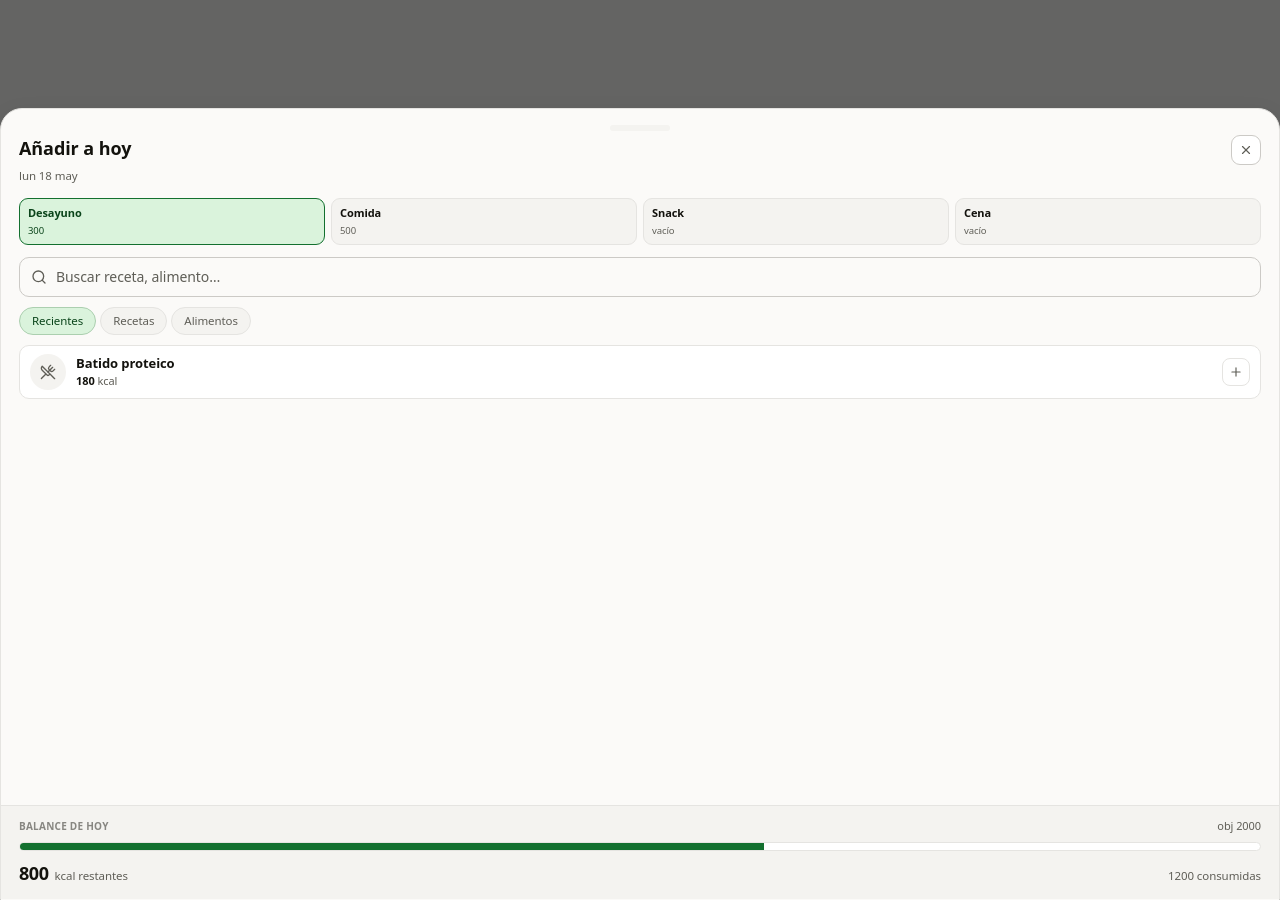
Scenario: AddToDaySheet › defaults to the Recientes tab (quick-add source); switching to Recetas swaps the list source
Expected: the text "Batido proteico" is shown, [76,354,175,372]
Expected: the text "Ensalada César" is not shown
Press the mouse on the tab "Recetas" at (134, 321), box [100,307,167,335]
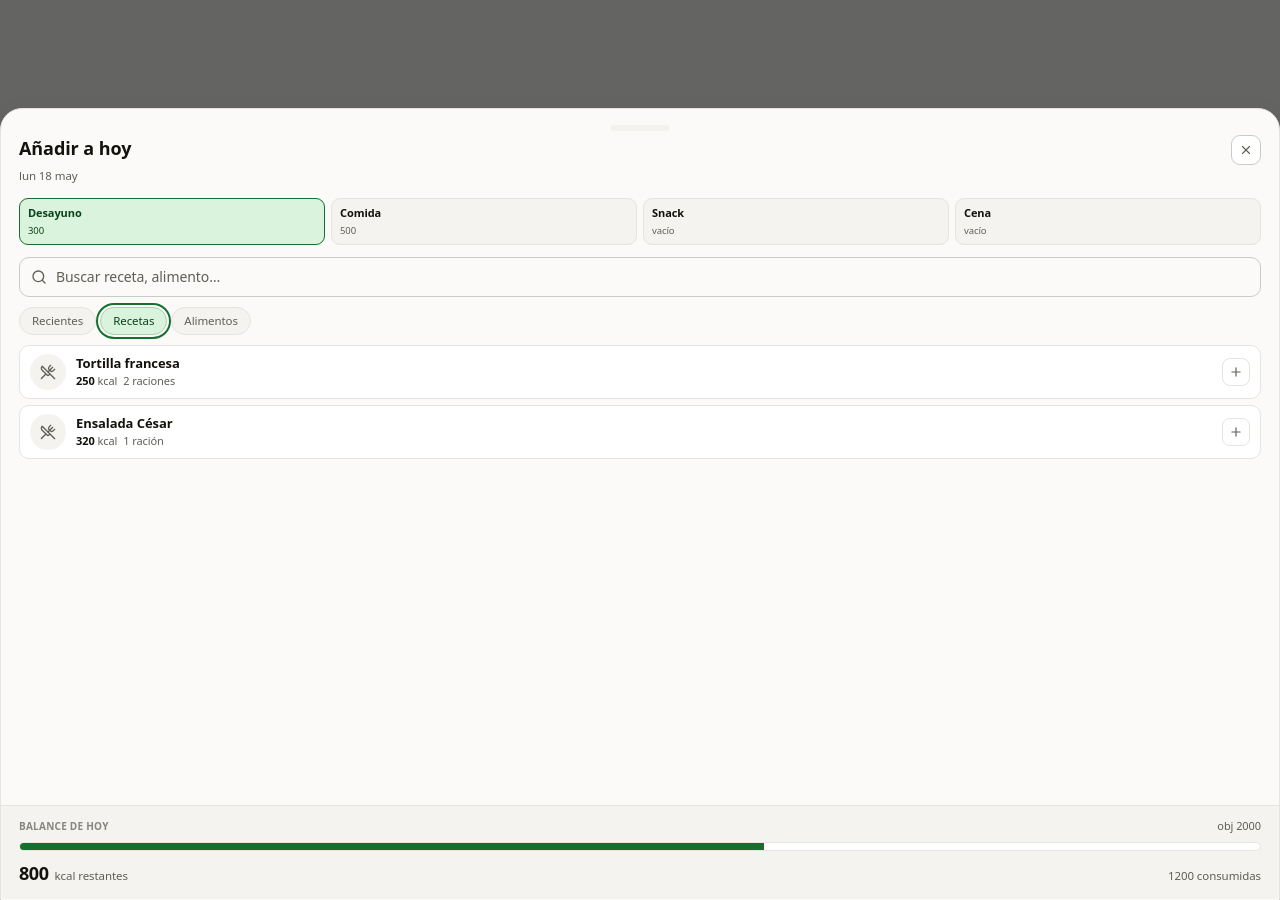
Expected: the text "Ensalada César" is shown, [76,414,172,432]
Expected: the text "Tortilla francesa" is shown, [76,354,180,372]
Expected: the button "Batido proteico" is gone
